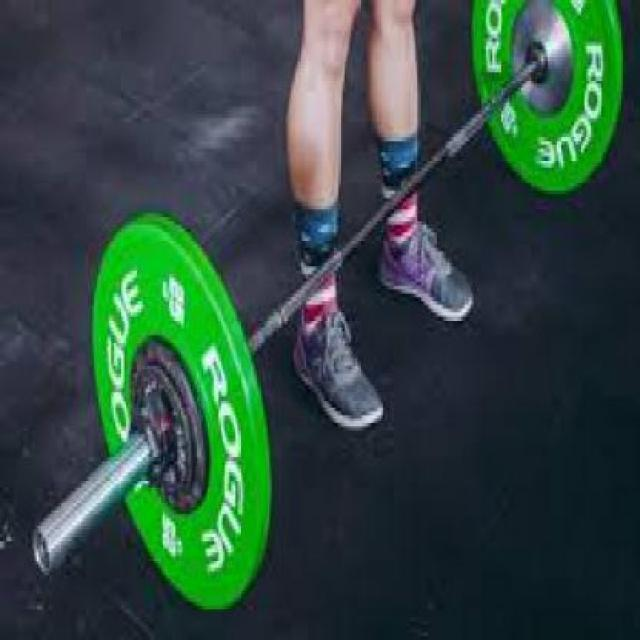Barbell: (27, 510, 62, 595)
